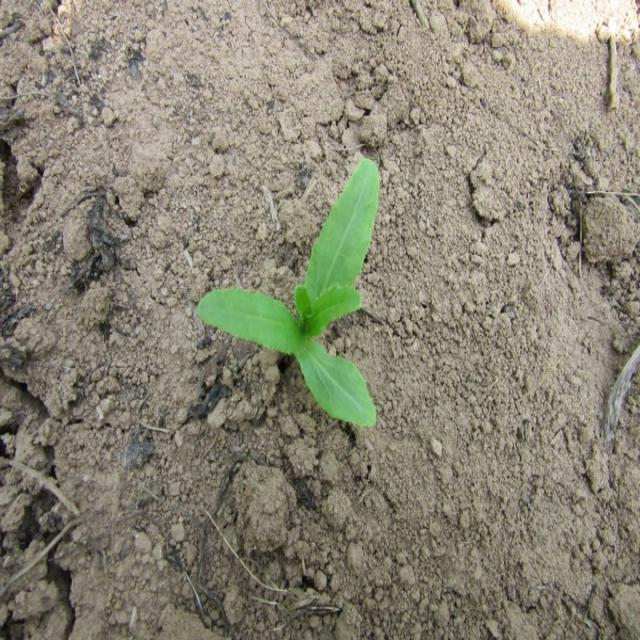cs: (195, 153, 385, 434)
